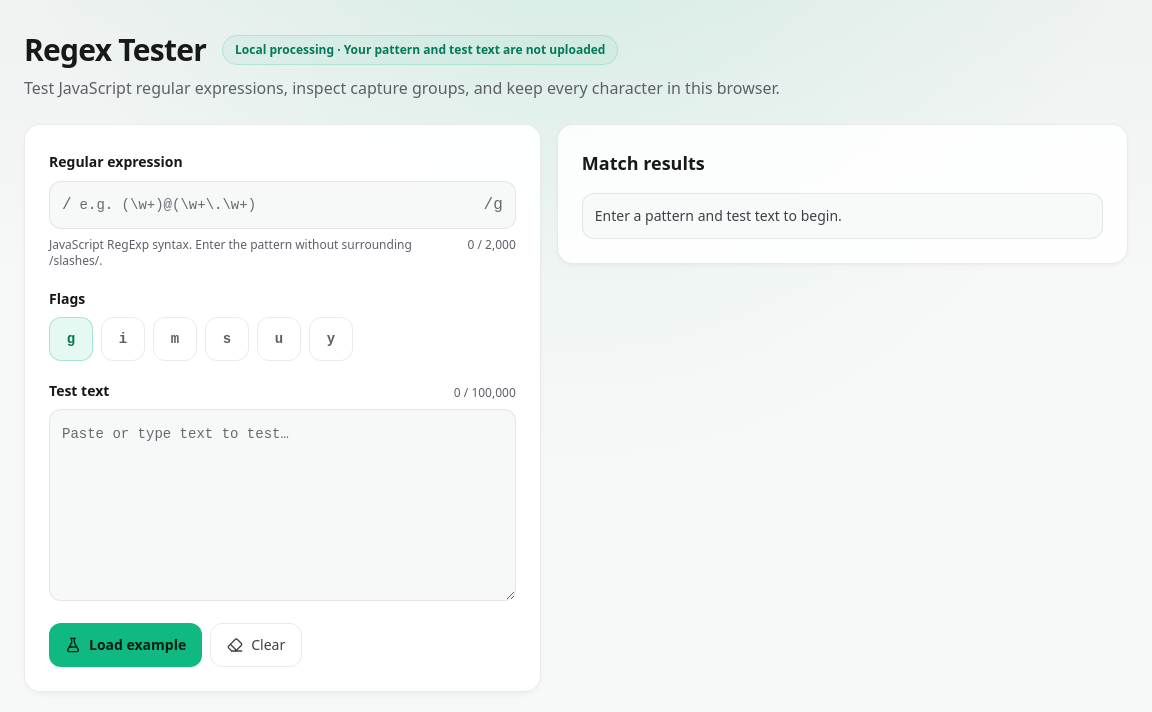
it: RegexTesterClient › loads the local example and renders matches and named groups
The width and height of the screenshot is (1152, 712).
Click the button "Load example".
click(126, 645)  # box [49,623,202,667]
Wait 200 ms
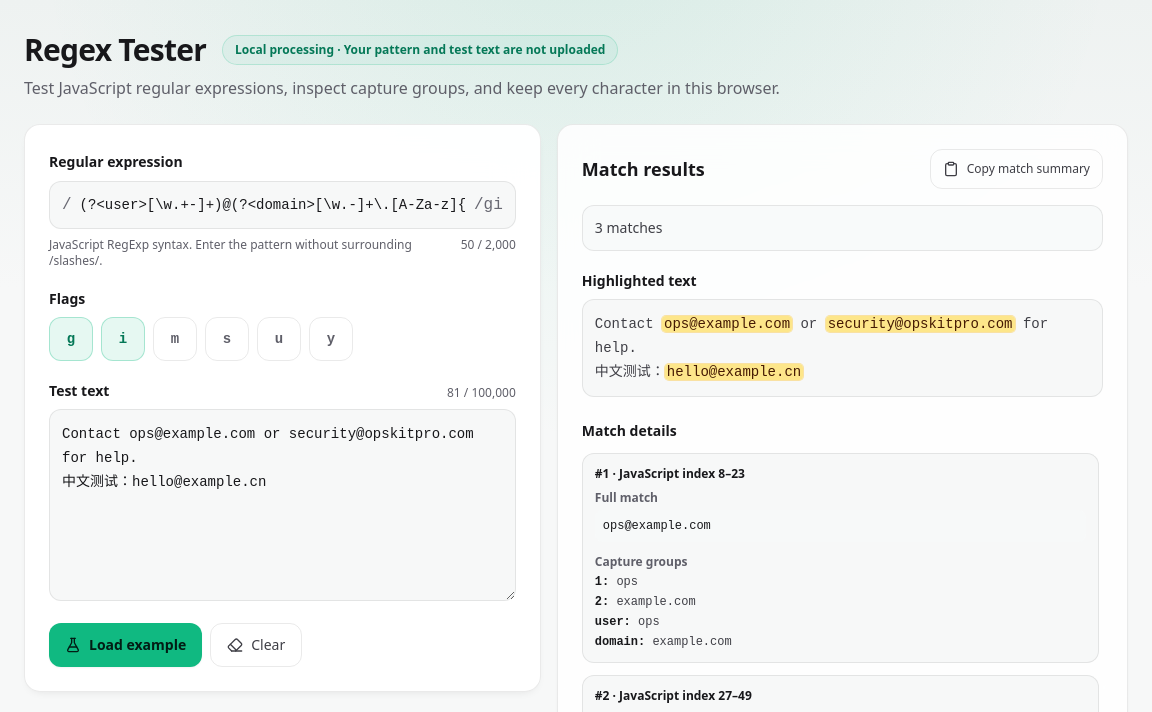
Now the text "3 matches" is shown, box [582,205,1103,251]
Now the text "user:" is shown, box [595,615,631,629]
